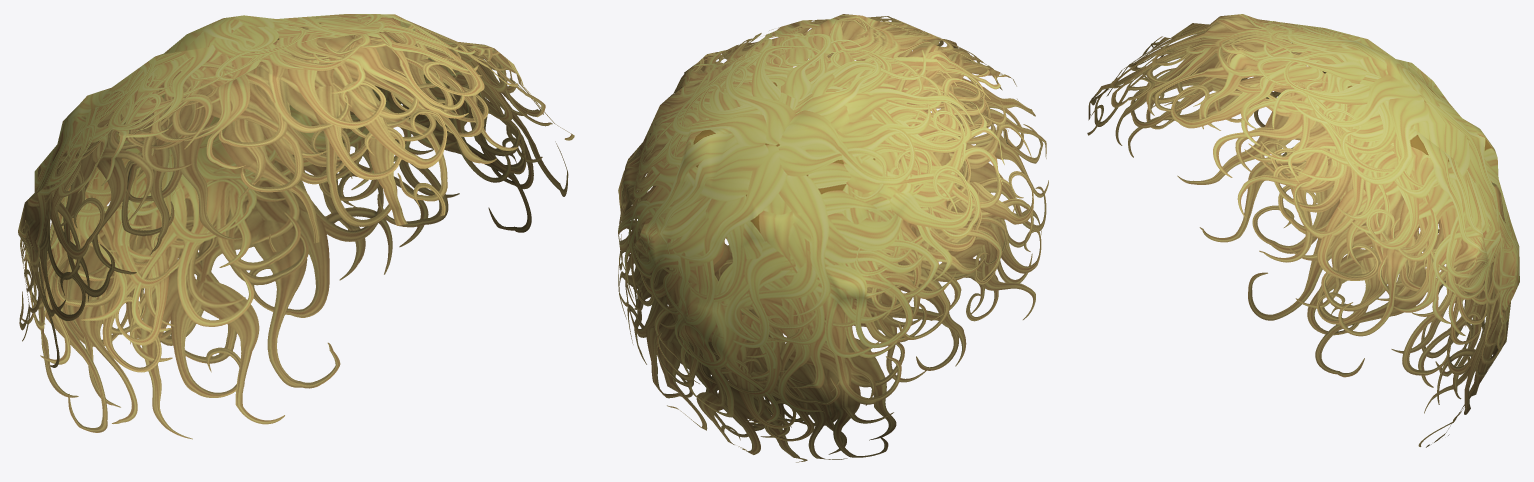
File: End_5.fbx
3 views of the same model, side by side, from view 1: azimuth 30°, elevation 25°; view 2: azimuth 150°, elevation 25°; view 3: azimuth 270°, elevation 25° (orthographic). The views are drawn at different scales.
Visible parts, largest first — view 1: Baby_B_HairD; view 2: Baby_B_HairD; view 3: Baby_B_HairD.
Boxes of the visible parts, x1,y1,x2,y2 form: Baby_B_HairD: [18, 14, 574, 439]; Baby_B_HairD: [618, 14, 1048, 462]; Baby_B_HairD: [1087, 14, 1519, 447].
Size of the model in its own units: 33.03 by 30.34 by 30.48.
